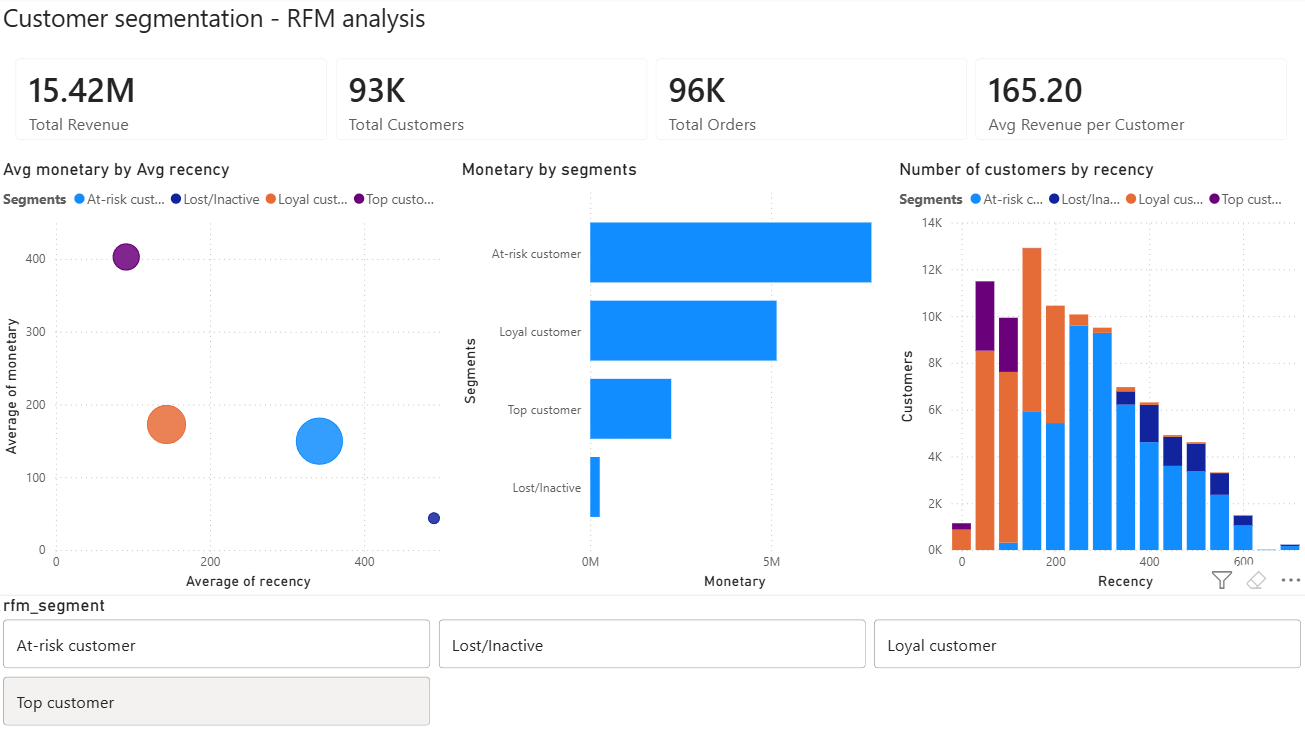

Layout of this report page (visuals, bound fields, positions):
{"tool":"powerbi","page":{"name":"Page 1","canvas":[1280,720],"ordinal":0},"visuals":[{"type":"cardVisual","fields":{"Data":["Sum(RFM_analysis.monetary)","RFM_analysis.Total Customers","Sum(RFM_analysis.frequency)","Avg(RFM_analysis.monetary)"]},"box":[0,44,1280.3,114.9],"z":0},{"type":"scatterChart","title":"Avg monetary by Avg recency","fields":{"X":["Avg(RFM_analysis.recency)"],"Y":["RFM_analysis.monetary"],"Series":["RFM_analysis.rfm_segment"],"Size":["Sum(RFM_analysis.monetary)"]},"box":[0,159,448.8,426.8],"z":1000},{"type":"clusteredBarChart","title":"Monetary by segments","fields":{"Category":["RFM_analysis.rfm_segment"],"Y":["Sum(RFM_analysis.monetary)"]},"box":[448.8,159,428,426.8],"z":2000},{"type":"columnChart","title":"Number of customers by recency","fields":{"Category":["RFM_analysis.recency (bins)"],"Y":["CountNonNull(RFM_analysis.customer_id)"],"Series":["RFM_analysis.rfm_segment"]},"box":[876.8,159,403.5,426.8],"z":3000},{"type":"textbox","box":[0,0,1280.3,44],"z":4000},{"type":"advancedSlicerVisual","fields":{"Values":["RFM_analysis.rfm_segment"]},"box":[0,585.7,1280.3,134.5],"z":5000}]}

Visuals, with their boxes in screenshot pixels (x1, y1, x2, y2), scaled from the page's 1280x720 canvas onto the 1305x730 screenshot:
cardVisual - Sum(RFM_analysis.monetary) x RFM_analysis.Total Customers: <region>0, 45, 1304, 161</region>
"Avg monetary by Avg recency" scatterChart: <region>0, 161, 458, 594</region>
"Monetary by segments" clusteredBarChart: <region>458, 161, 894, 594</region>
"Number of customers by recency" columnChart: <region>894, 161, 1304, 594</region>
textbox: <region>0, 0, 1304, 45</region>
advancedSlicerVisual - RFM_analysis.rfm_segment: <region>0, 594, 1304, 729</region>
